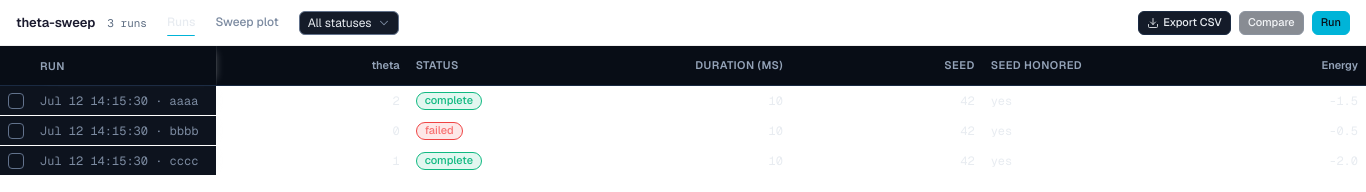
Test case: RunsTable › counts checked runs a filter hides and keeps Compare secondary (research-r-11)
Click the checkbox named "Select 20260712-000001-aaaa for comparison" at (16,100), box [8, 92, 24, 108]
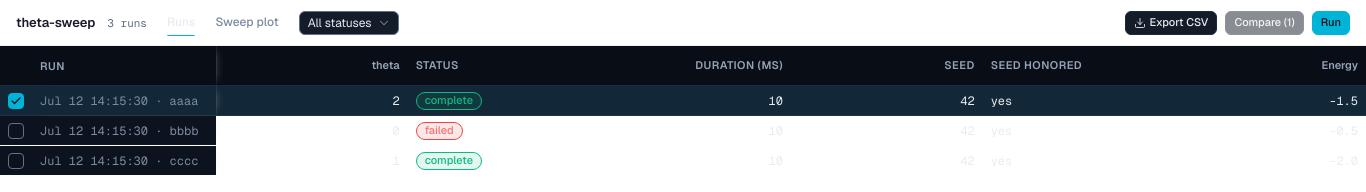
Click the checkbox named "Select 20260712-000002-bbbb for comparison" at (16,130), box [8, 122, 24, 138]
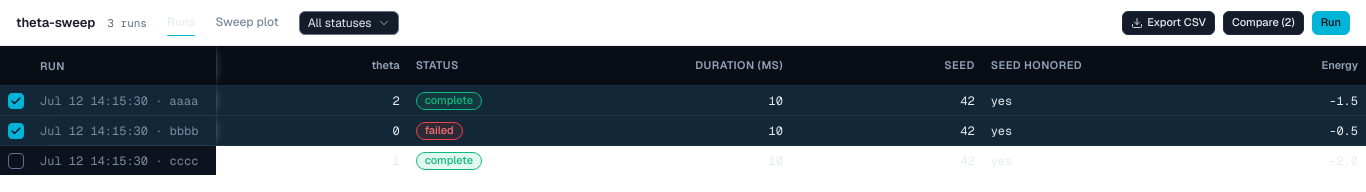
Select "failed" in the dropdown named "Filter by status" at (349,22), box [299, 10, 399, 34]
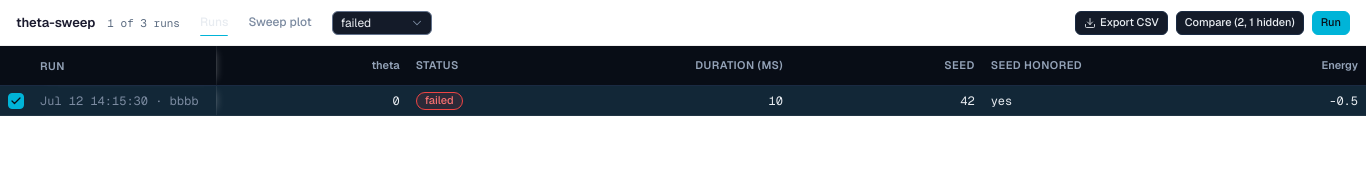
expect the button "Compare (2, 1 hidden)" is shown: met, box [1176, 10, 1304, 34]
